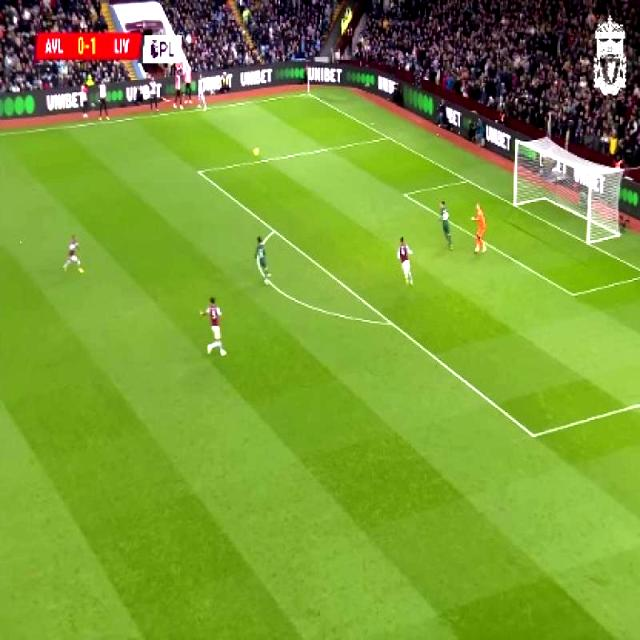bigarea_bottom_inner: (523, 422, 543, 448)
bigarea_top_inner: (191, 162, 206, 180)
bigarea_top_outter: (382, 129, 394, 143)
bottom_arc_area_intersection: (384, 312, 398, 332)
corner: (296, 86, 314, 100)
smallarea_bottom_inner: (563, 280, 582, 306)
smallarea_top_inner: (397, 184, 411, 202)
smallarea_top_outter: (460, 170, 474, 188)
top_arc_area_intersection: (268, 222, 282, 236)
